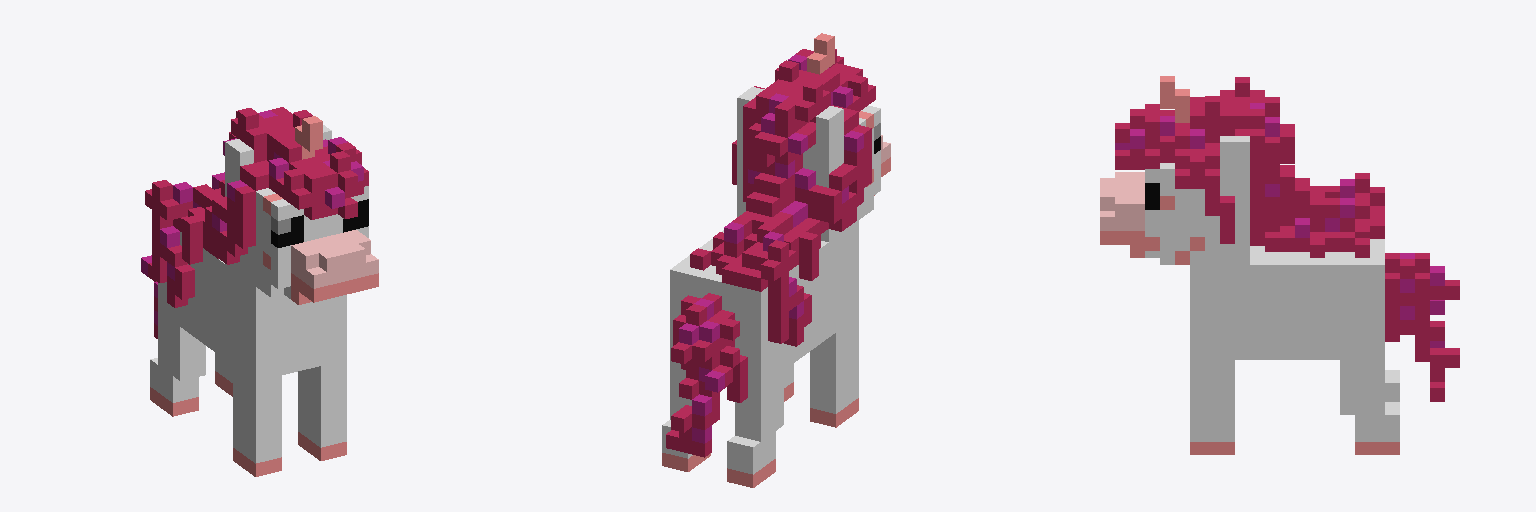
3 views of the same model, side by side, from view 1: azimuth 30°, elevation 25°; view 2: azimuth 150°, elevation 25°; view 3: azimuth 270°, elevation 25° (orthographic).
Parts seen in each view (by area): view 1: object 1; view 2: object 1; view 3: object 1.
Part boxes in pixels (bbox=[...]): object 1: bbox=[141, 107, 378, 476]; object 1: bbox=[662, 33, 890, 487]; object 1: bbox=[1100, 76, 1459, 454].
Size of the model in its own units: 0.9 by 2.6 by 2.4.
Materials: 1 (1 with a texture image).